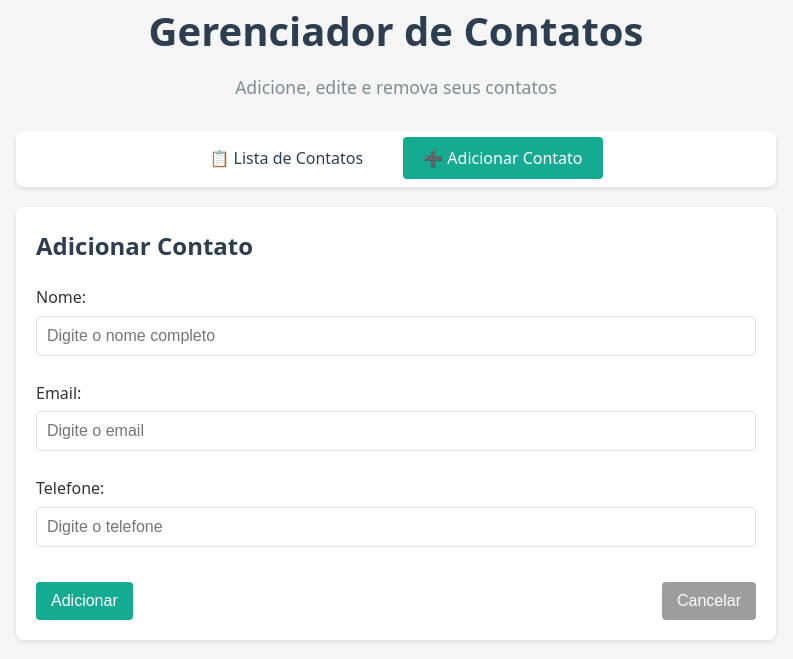
Test: Navegação com Estados › deve limpar contexto ao cancelar edição
The image size is (793, 659).
Type "Teste Cancelar" into the field with id "name" at (396,336), box 36,316 -> 756,356
Type "cancelar@test.com" into the field with id "email" at (396,431), box 36,411 -> 756,451
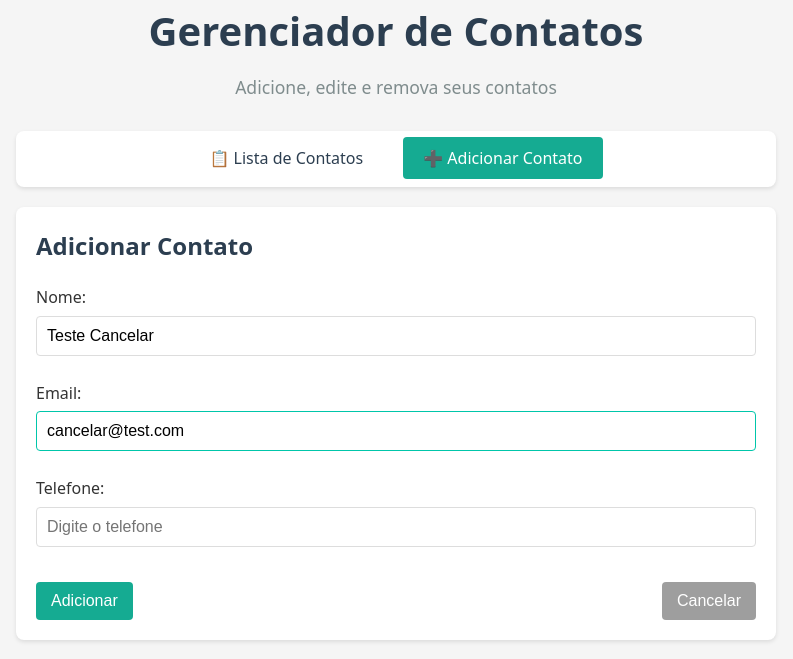
Type "(11) 99999-9999" into the field labelled "Telefone:" at (396,527), box 36,507 -> 756,547
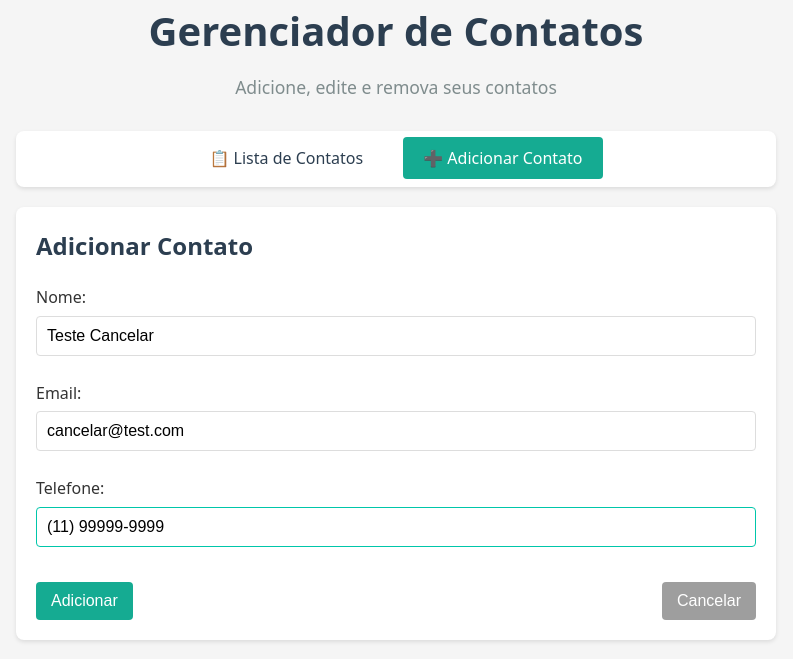
Click the submit button at (85,601), box 36,582 -> 133,620
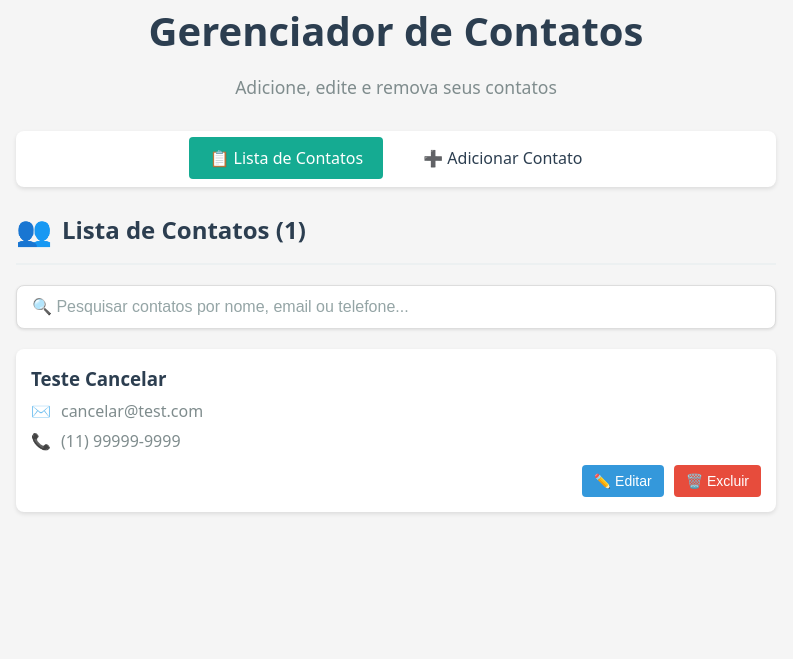
Now the element with test id "contact-item" is shown, box 16,349 -> 776,512
Now the heading with test id "contact-name" reads "Teste Cancelar", box 31,366 -> 167,391
Now the button with test id "edit-button" is shown
Click the button with test id "edit-button" at (623,481), box 582,465 -> 664,497
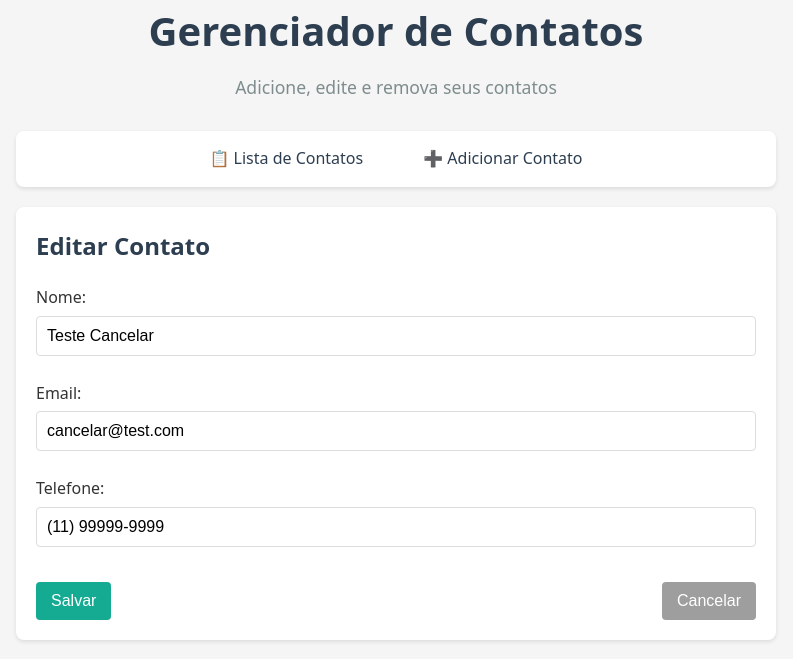
Replace the text in the field with id "name" with "Nome Alterado" at (396,336), box 36,316 -> 756,356
Click the button "Cancelar" at (709,601), box 662,582 -> 756,620
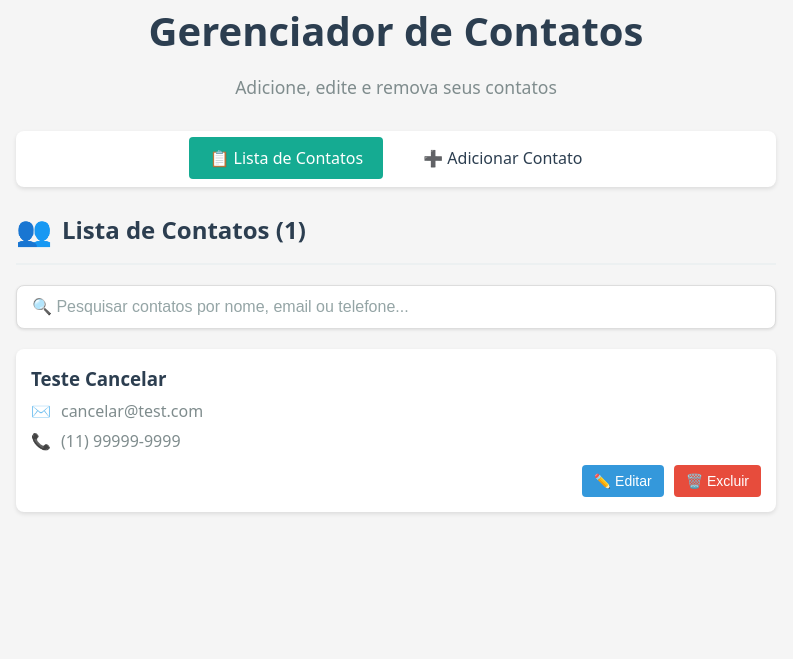
Now the element with test id "contact-item" is shown, box 16,349 -> 776,512
Now the button with test id "edit-button" is shown
Click the button with test id "edit-button" at (623,481), box 582,465 -> 664,497
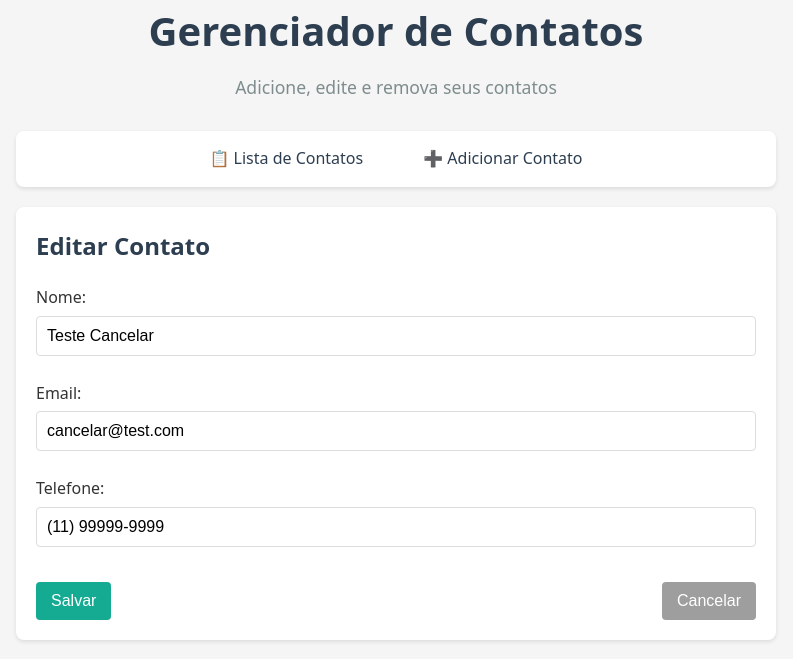
Now the field with id "name" holds "Teste Cancelar", box 36,316 -> 756,356
